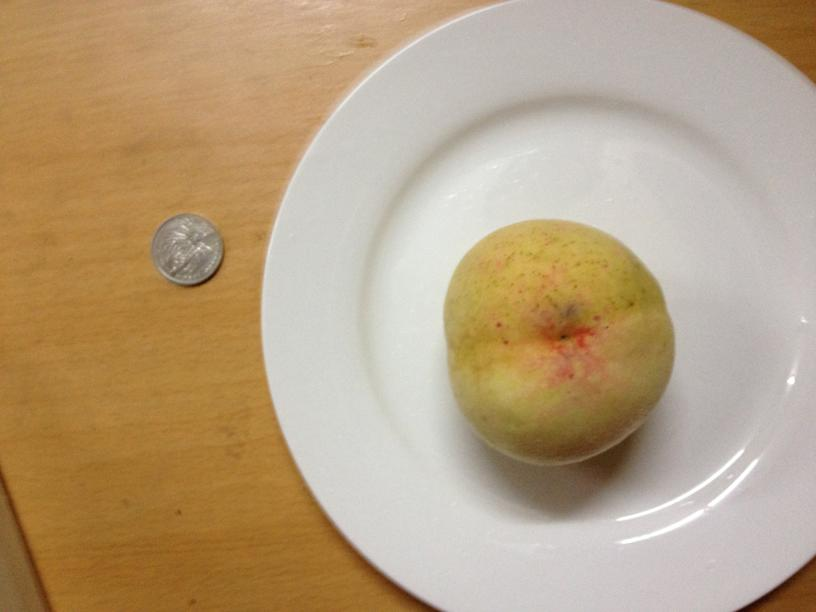coin: (150, 214, 221, 286)
peach: (440, 214, 675, 465)
